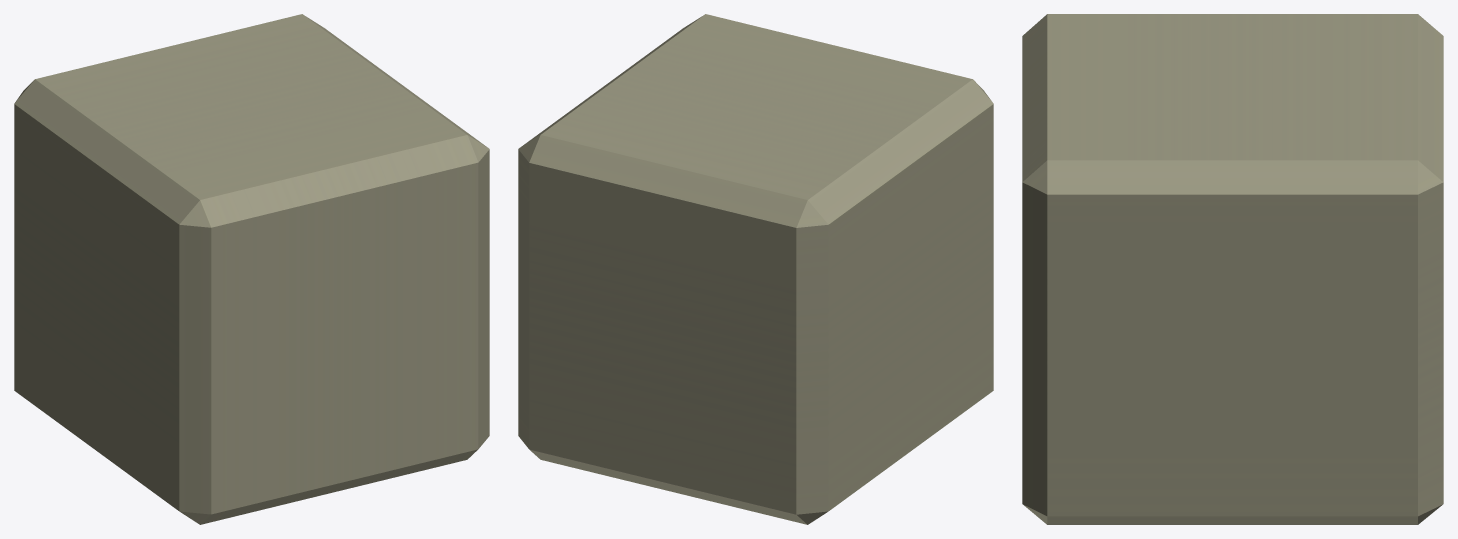
Rendered from Cargo_2_LOD1.fbx.
3 renders of one model, left to right at view 1: azimuth 30°, elevation 25°; view 2: azimuth 150°, elevation 25°; view 3: azimuth 270°, elevation 25°, orthographic. The views are drawn at different scales.
Visible parts, largest first — view 1: pCube1884; view 2: pCube1884; view 3: pCube1884.
Part boxes in pixels (bbox=[...]): pCube1884: bbox=[14, 14, 489, 524]; pCube1884: bbox=[518, 14, 993, 524]; pCube1884: bbox=[1022, 14, 1443, 524].
Bounding box in the file's own units: 150 × 150 × 157.
